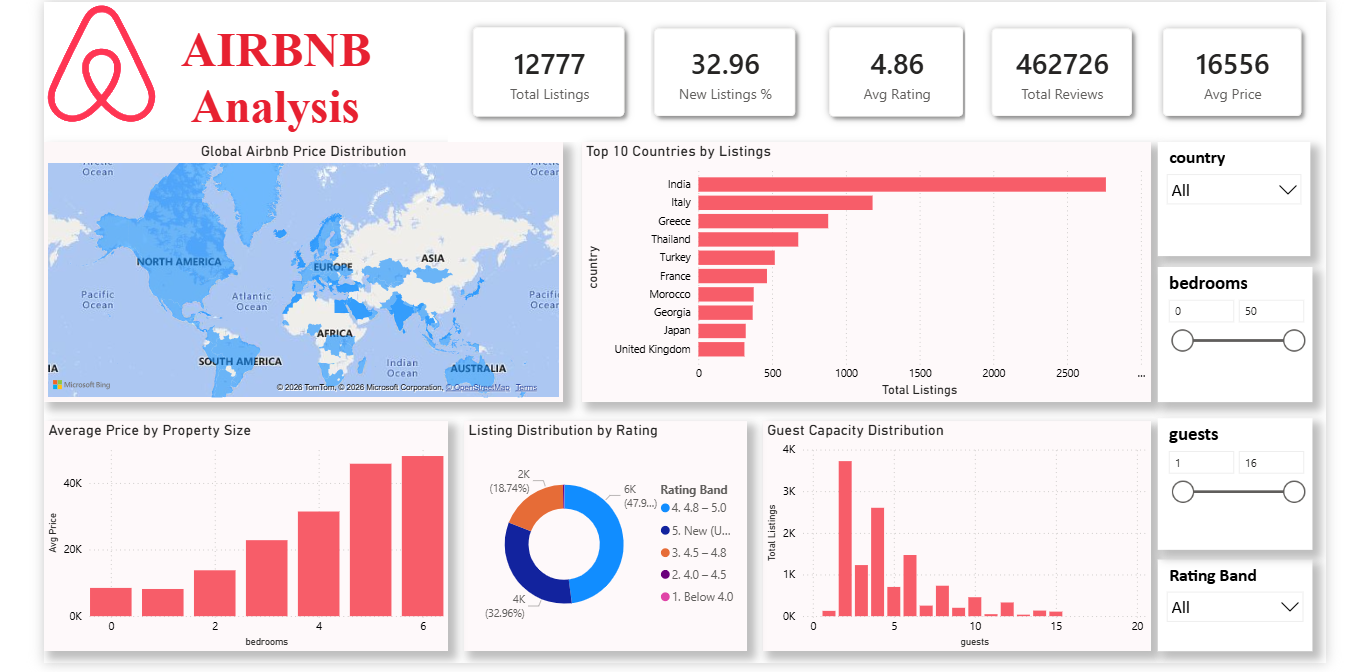

The dashboard page shown, as its layout file describes it:
{"tool":"powerbi","page":{"name":"Dashboard","canvas":[1466,756],"ordinal":0},"visuals":[{"type":"cardVisual","fields":{"Data":["airbnb_cleaned.Avg Price"]},"box":[1248.3,0,218.3,160],"z":0},{"type":"cardVisual","fields":{"Data":["airbnb_cleaned.Avg Rating"]},"box":[868.3,0,211.7,160],"z":1000},{"type":"cardVisual","fields":{"Data":["airbnb_cleaned.New Listings %"]},"box":[666.7,0,221.7,160],"z":2000},{"type":"donutChart","title":"Listing Distribution by Rating","fields":{"Y":["airbnb_cleaned.Total Listings"],"Category":["airbnb_cleaned.Rating Band"]},"box":[480,478.3,323.3,263.3],"z":3000},{"type":"filledMap","title":"Global Airbnb Price Distribution","fields":{"Category":["airbnb_cleaned.country"]},"box":[0,160.5,593.6,296.8],"z":4000},{"type":"cardVisual","fields":{"Data":["airbnb_cleaned.Total Listings"]},"box":[461.7,0,231.7,160],"z":5000},{"type":"cardVisual","fields":{"Data":["airbnb_cleaned.Total Reviews"]},"box":[1053.3,0,220,160],"z":6000},{"type":"clusteredBarChart","title":"Top 10 Countries by Listings","fields":{"Category":["airbnb_cleaned.country"],"Y":["airbnb_cleaned.Total Listings"]},"box":[614.1,160.5,651.5,296.8],"z":7000},{"type":"clusteredColumnChart","title":"Guest Capacity Distribution","fields":{"Category":["airbnb_cleaned.guests"],"Y":["airbnb_cleaned.Total Listings"]},"box":[821.7,478.3,443.3,263.3],"z":8000},{"type":"clusteredColumnChart","title":"Average Price by Property Size","fields":{"Category":["airbnb_cleaned.bedrooms"],"Y":["airbnb_cleaned.Avg Price"]},"box":[0,478.3,461.7,263.3],"z":9000},{"type":"actionButton","box":[0,0,100,40],"z":10000},{"type":"textbox","box":[0,0,480,160],"z":11000},{"type":"image","box":[0,0,131.4,141.4],"z":12000},{"type":"slicer","fields":{"Values":["airbnb_cleaned.country"]},"box":[1272.9,160,174.3,130],"z":13000},{"type":"slicer","fields":{"Values":["airbnb_cleaned.Rating Band"]},"box":[1273.3,636.7,176.7,105],"z":14000},{"type":"slicer","fields":{"Values":["airbnb_cleaned.bedrooms"]},"box":[1272.9,302.9,177.1,154.3],"z":15000},{"type":"slicer","fields":{"Values":["airbnb_cleaned.guests"]},"box":[1273.3,475,176.7,150],"z":16000}]}

Visuals, with their boxes on the page's 1466x756 design canvas (x1, y1, x2, y2). These are canvas units, not pixel positions in the 1371x672 screenshot, which may show the page scaled, cropped or inside an application window:
cardVisual - airbnb_cleaned.Avg Price: <bbox>1248, 0, 1467, 160</bbox>
cardVisual - airbnb_cleaned.Avg Rating: <bbox>868, 0, 1080, 160</bbox>
cardVisual - airbnb_cleaned.New Listings %: <bbox>667, 0, 888, 160</bbox>
"Listing Distribution by Rating" donutChart: <bbox>480, 478, 803, 742</bbox>
"Global Airbnb Price Distribution" filledMap: <bbox>0, 160, 594, 457</bbox>
cardVisual - airbnb_cleaned.Total Listings: <bbox>462, 0, 693, 160</bbox>
cardVisual - airbnb_cleaned.Total Reviews: <bbox>1053, 0, 1273, 160</bbox>
"Top 10 Countries by Listings" clusteredBarChart: <bbox>614, 160, 1266, 457</bbox>
"Guest Capacity Distribution" clusteredColumnChart: <bbox>822, 478, 1265, 742</bbox>
"Average Price by Property Size" clusteredColumnChart: <bbox>0, 478, 462, 742</bbox>
actionButton: <bbox>0, 0, 100, 40</bbox>
textbox: <bbox>0, 0, 480, 160</bbox>
image: <bbox>0, 0, 131, 141</bbox>
slicer - airbnb_cleaned.country: <bbox>1273, 160, 1447, 290</bbox>
slicer - airbnb_cleaned.Rating Band: <bbox>1273, 637, 1450, 742</bbox>
slicer - airbnb_cleaned.bedrooms: <bbox>1273, 303, 1450, 457</bbox>
slicer - airbnb_cleaned.guests: <bbox>1273, 475, 1450, 625</bbox>
